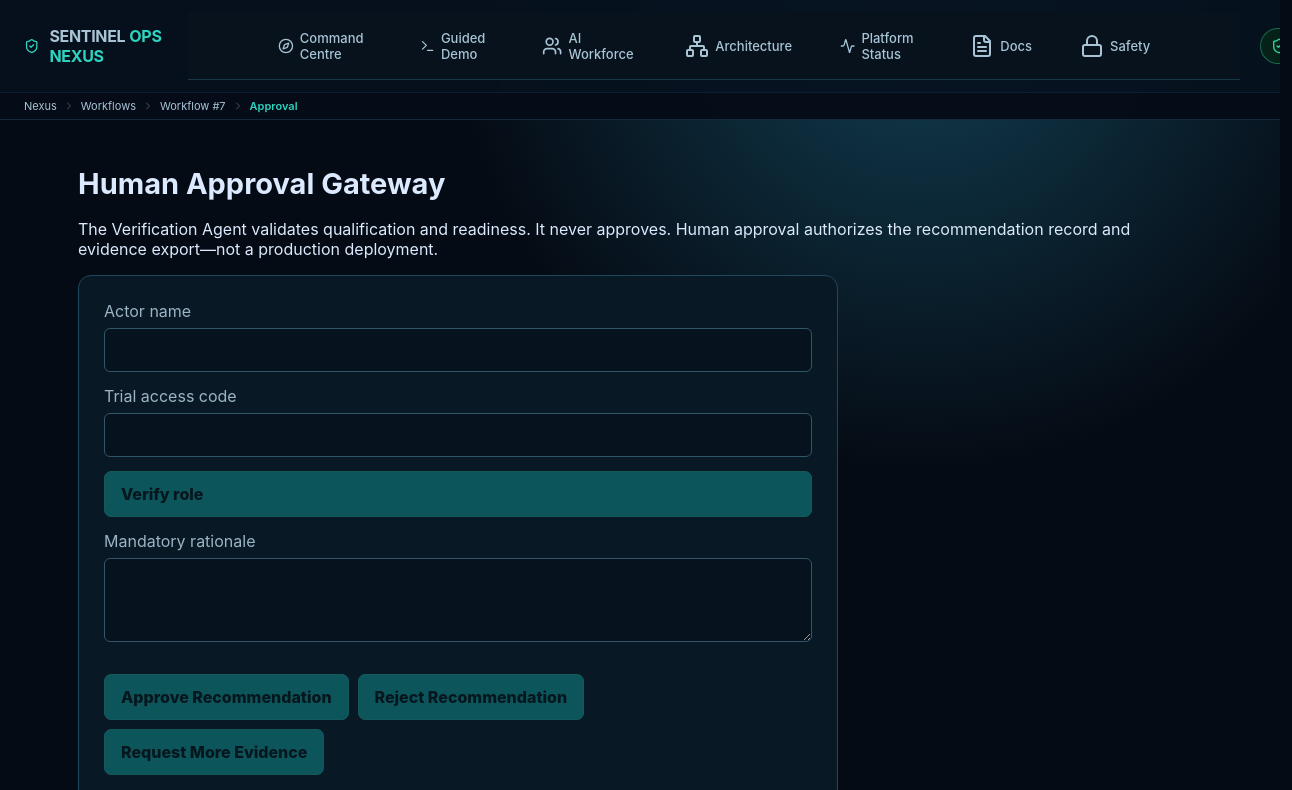
Test: approval and evidence integration boundaries › separates a recorded approval from intentional non-execution
Type "Senior QA" into the field labelled "Actor name" at point(458, 350), box 104,328 -> 812,372
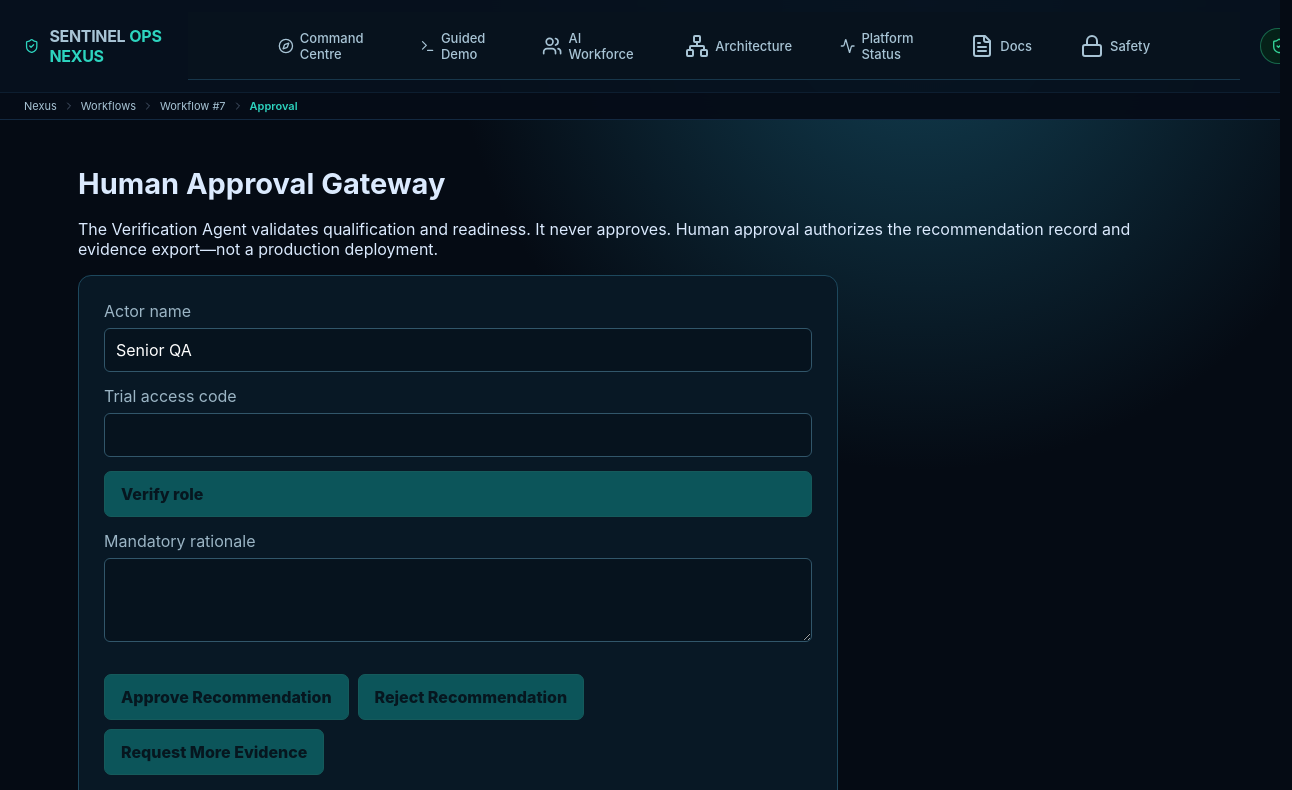
Type "1111" into the password field labelled "Trial access code" at point(458, 435), box 104,413 -> 812,457
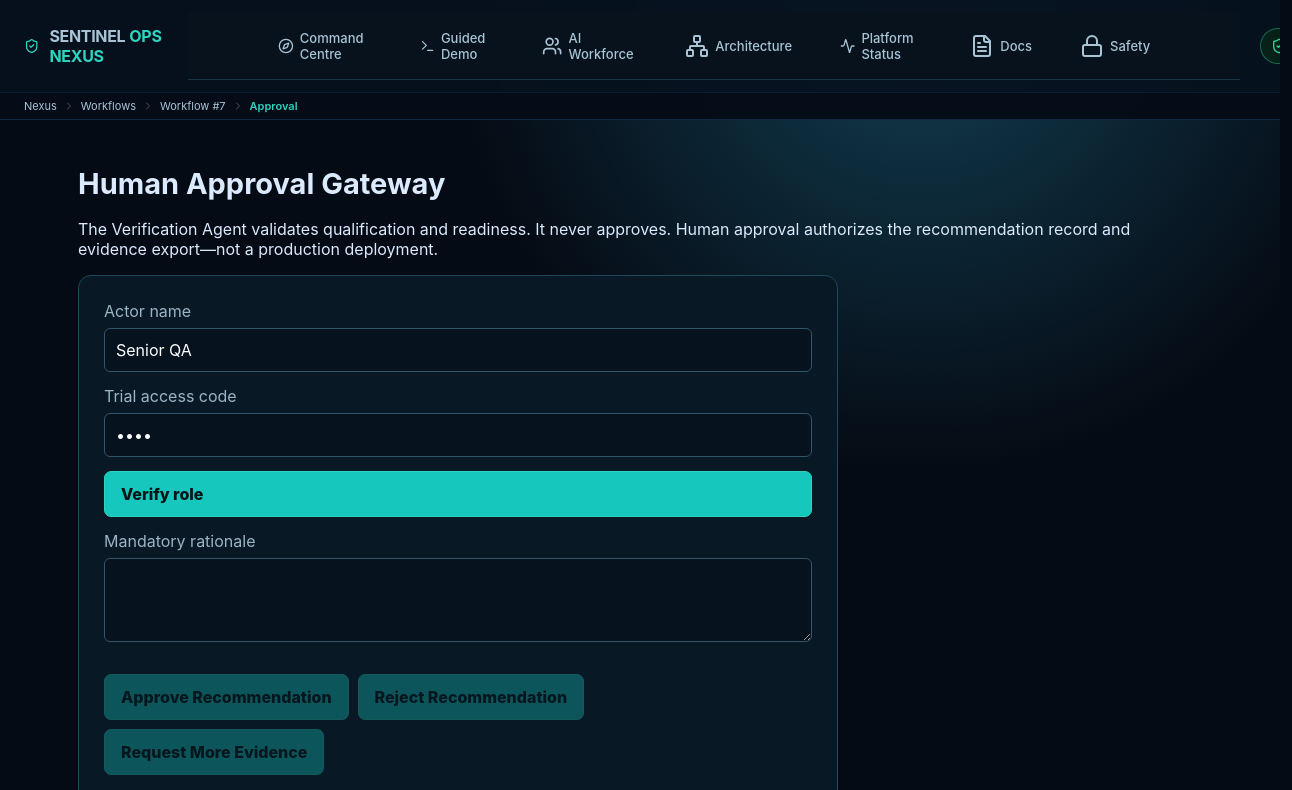
Click the button "Verify role" at point(162, 494), box 104,471 -> 812,517
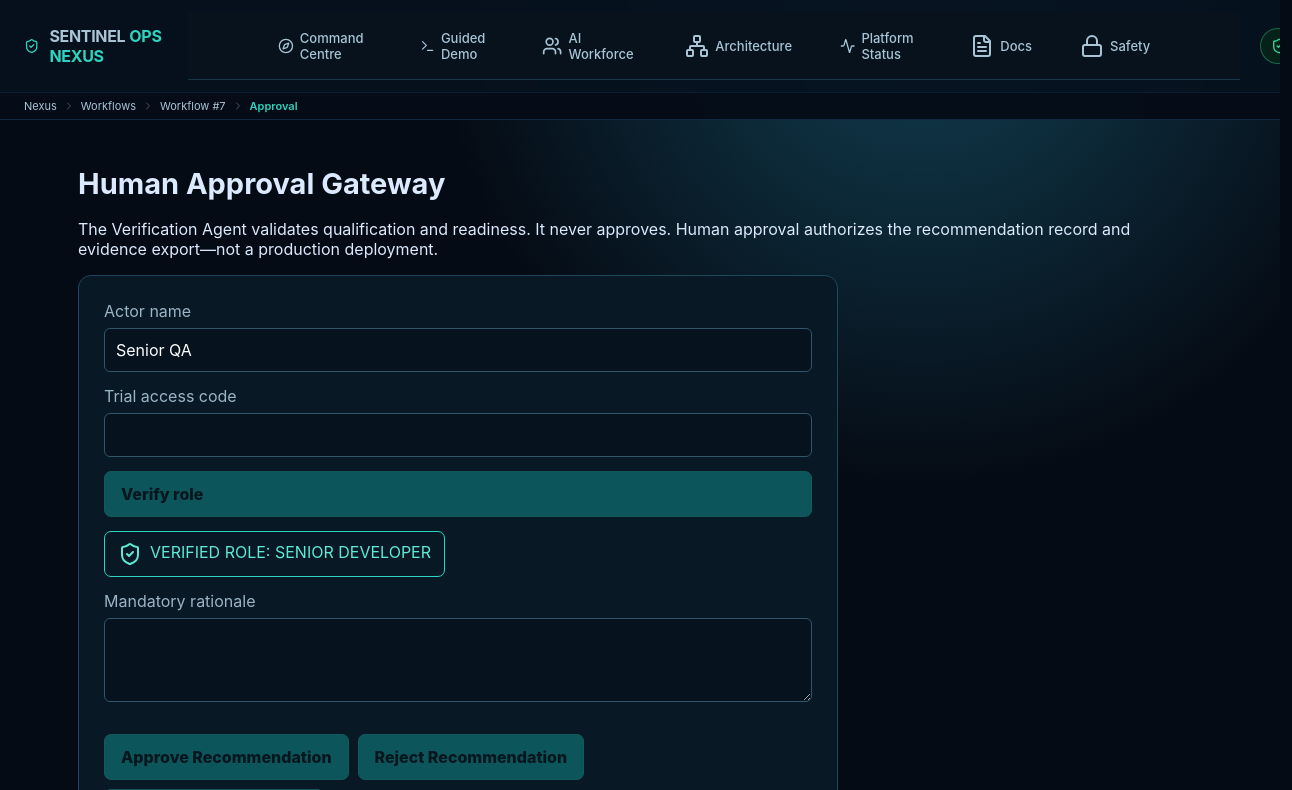
Now the text "VERIFIED ROLE: SENIOR DEVELOPER" is shown, box 104,531 -> 445,577
Type "Reviewed every mandatory gate." into the text box labelled "Mandatory rationale" at point(458, 660), box 104,618 -> 812,702
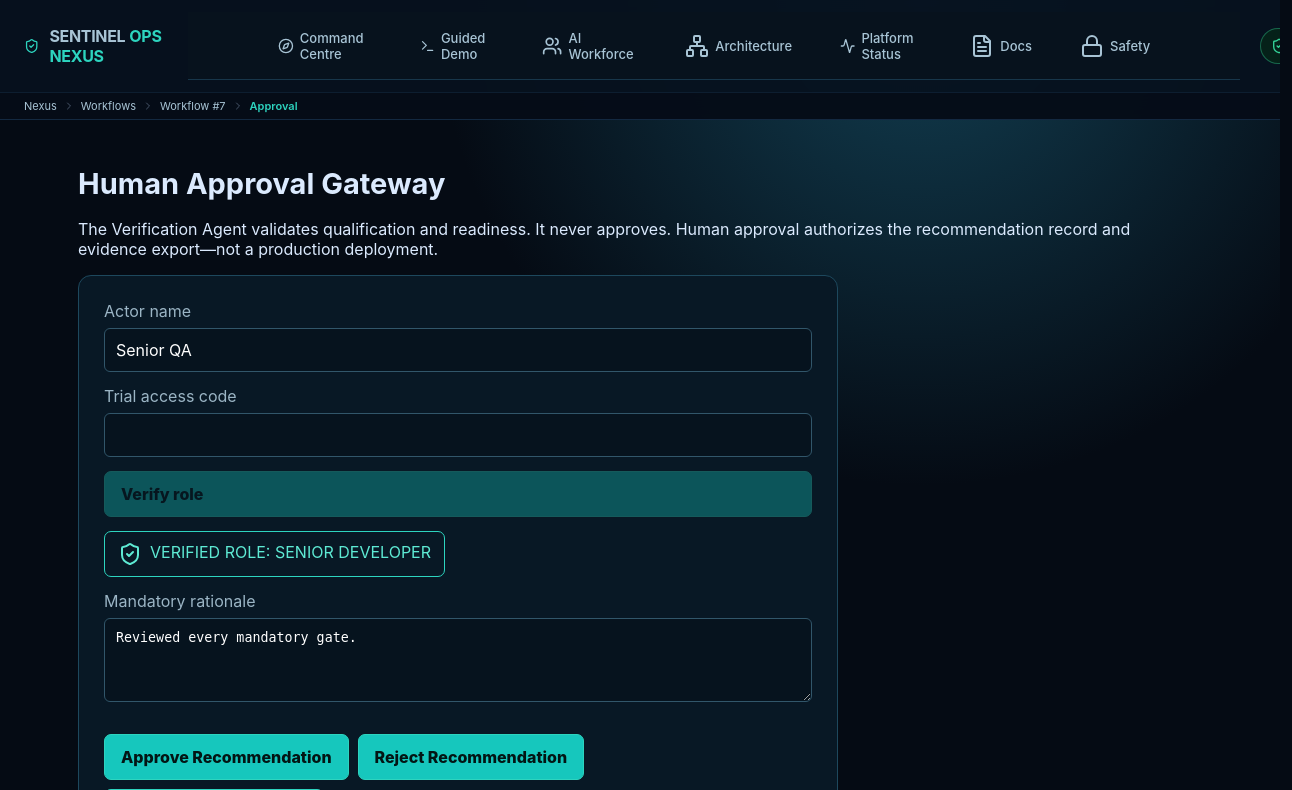
Click the button "Approve Recommendation" at point(226, 757), box 104,734 -> 348,780
(page scrolled)
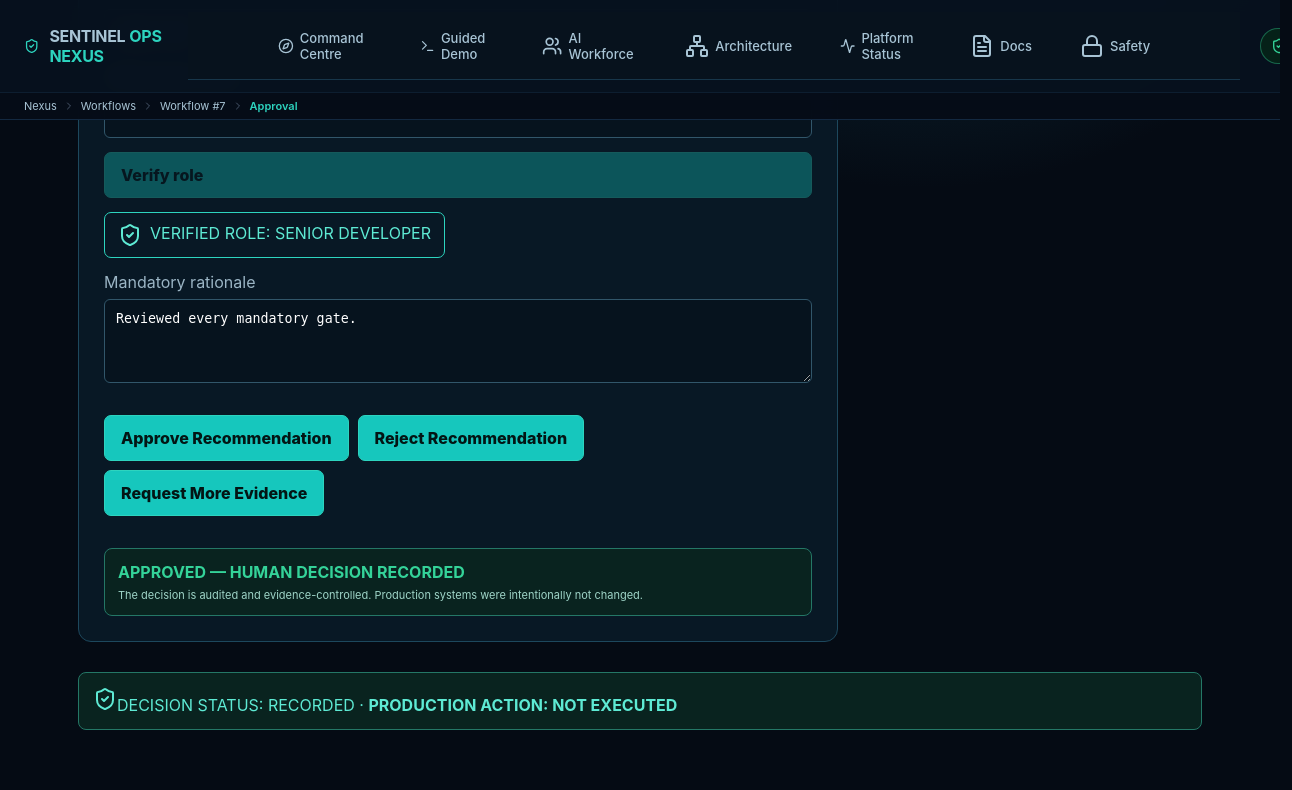
Now the text "APPROVED — HUMAN DECISION RECORDED" is shown, box 118,562 -> 465,582
Now the text "Production systems were intentionally not changed" is shown, box 118,588 -> 643,602
Now the text "DECISION STATUS: RECORDED" is shown, box 117,695 -> 355,715
